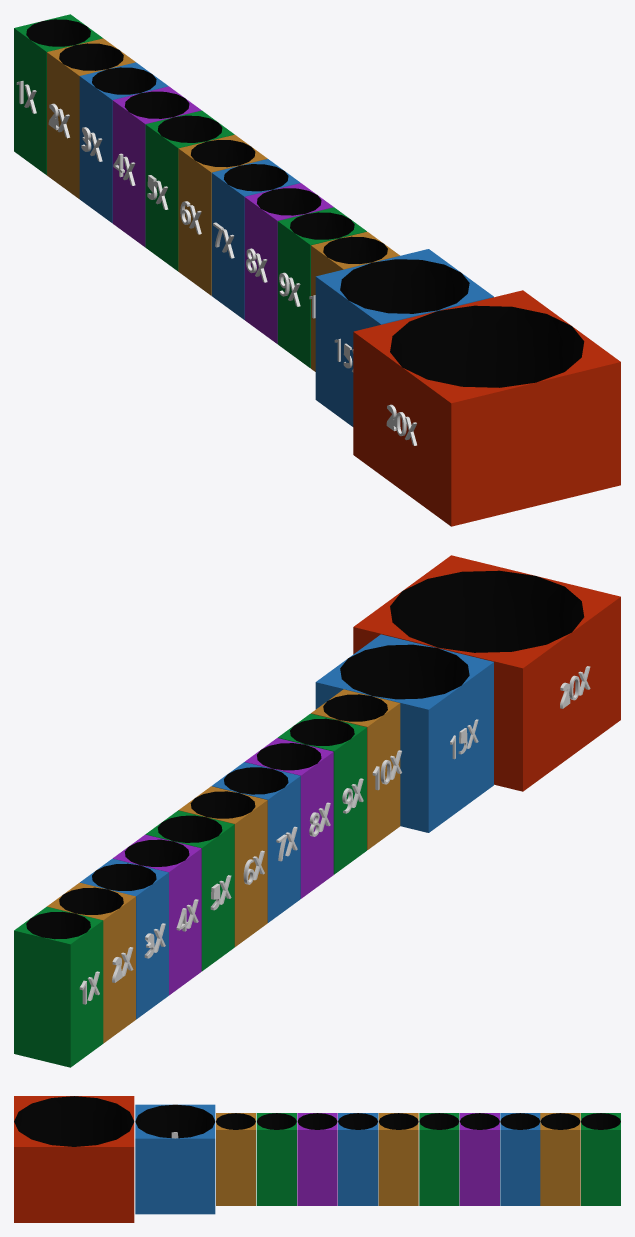
Rendered from bonus.fbx.
3 views of the same model, one above another, from view 1: azimuth 30°, elevation 25°; view 2: azimuth 150°, elevation 25°; view 3: azimuth 270°, elevation 25° (orthographic). The views are drawn at different scales.
Parts seen in each view (by area): view 1: 2x, 2x_2, 3x_2, 3x_3, 1x, 2x_4, 3x, 3x_5, 1x_2, 1x_4, 2x_6, 2x_3; view 2: 2x, 2x_2, 1x_4, 3x_2, 1x, 2x_4, 3x, 1x_2, 2x_3, 3x_3, 3x_5, 2x_6; view 3: 2x, 2x_2, 1x, 3x, 3x_2, 2x_4, 1x_2, 3x_3, 3x_5, 2x_6, 2x_3, 1x_4.
Boxes of the visible parts, x1,y1,x2,y2 form: 2x: (353,290,620,526); 2x_2: (315,249,493,426); 3x_2: (211,159,300,319); 3x_3: (112,86,201,246); 1x: (277,207,366,368); 2x_4: (178,134,267,295); 3x: (244,183,333,343); 3x_5: (79,62,168,223); 1x_2: (145,110,234,271); 1x_4: (14,14,102,175); 2x_6: (47,38,135,198); 2x_3: (311,231,399,371); 2x: (353,555,620,791); 2x_2: (315,634,493,832); 1x_4: (14,906,103,1067); 3x_2: (212,762,300,922); 1x: (277,713,366,874); 2x_4: (178,786,267,946); 3x: (245,738,333,898); 1x_2: (145,810,234,971); 2x_3: (311,689,400,850); 3x_3: (113,834,201,995); 3x_5: (80,858,168,1019); 2x_6: (47,882,135,1043); 2x: (14,1096,134,1222); 2x_2: (135,1104,215,1214); 1x: (256,1113,296,1205); 3x: (297,1113,337,1205); 3x_2: (338,1113,378,1205); 2x_4: (378,1113,418,1205); 1x_2: (419,1113,459,1205); 3x_3: (459,1113,499,1205); 3x_5: (500,1113,540,1205); 2x_6: (540,1113,580,1205); 2x_3: (216,1113,255,1205); 1x_4: (581,1113,620,1205).
Size of the model in its own units: 3057 by 2084 by 15120.
